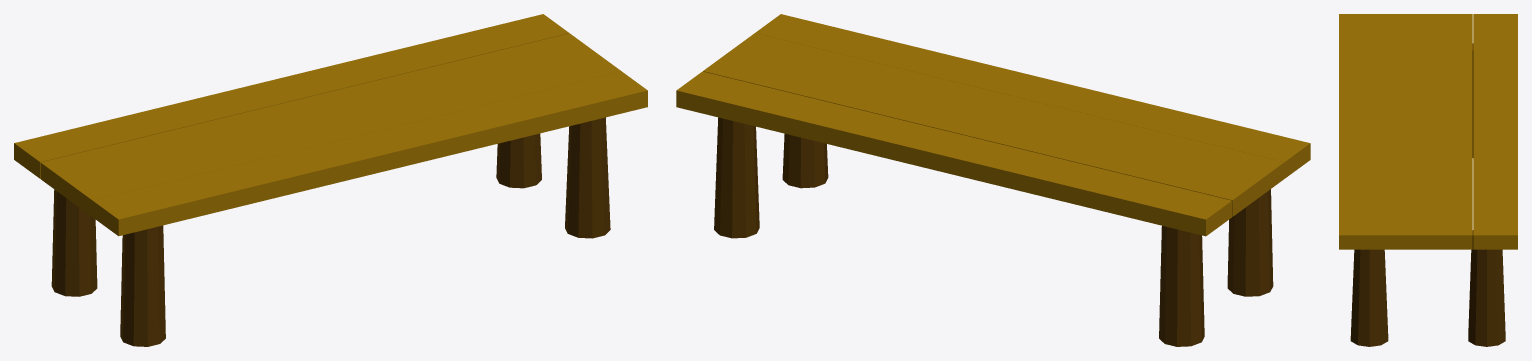
The model's file is chair wood.fbx.
3 views of the same model, side by side, from view 1: azimuth 30°, elevation 25°; view 2: azimuth 150°, elevation 25°; view 3: azimuth 270°, elevation 25° (orthographic). The views are drawn at different scales.
Visible parts, largest first — view 1: group65_pCylinder85; view 2: group65_pCylinder85; view 3: group65_pCylinder85.
Part boxes in pixels (x1,y1,x2,y2): group65_pCylinder85: [14, 14, 647, 346]; group65_pCylinder85: [676, 14, 1310, 346]; group65_pCylinder85: [1339, 14, 1517, 346].
Bounding box in the file's own units: 2.73 × 0.6961 × 0.9323.
